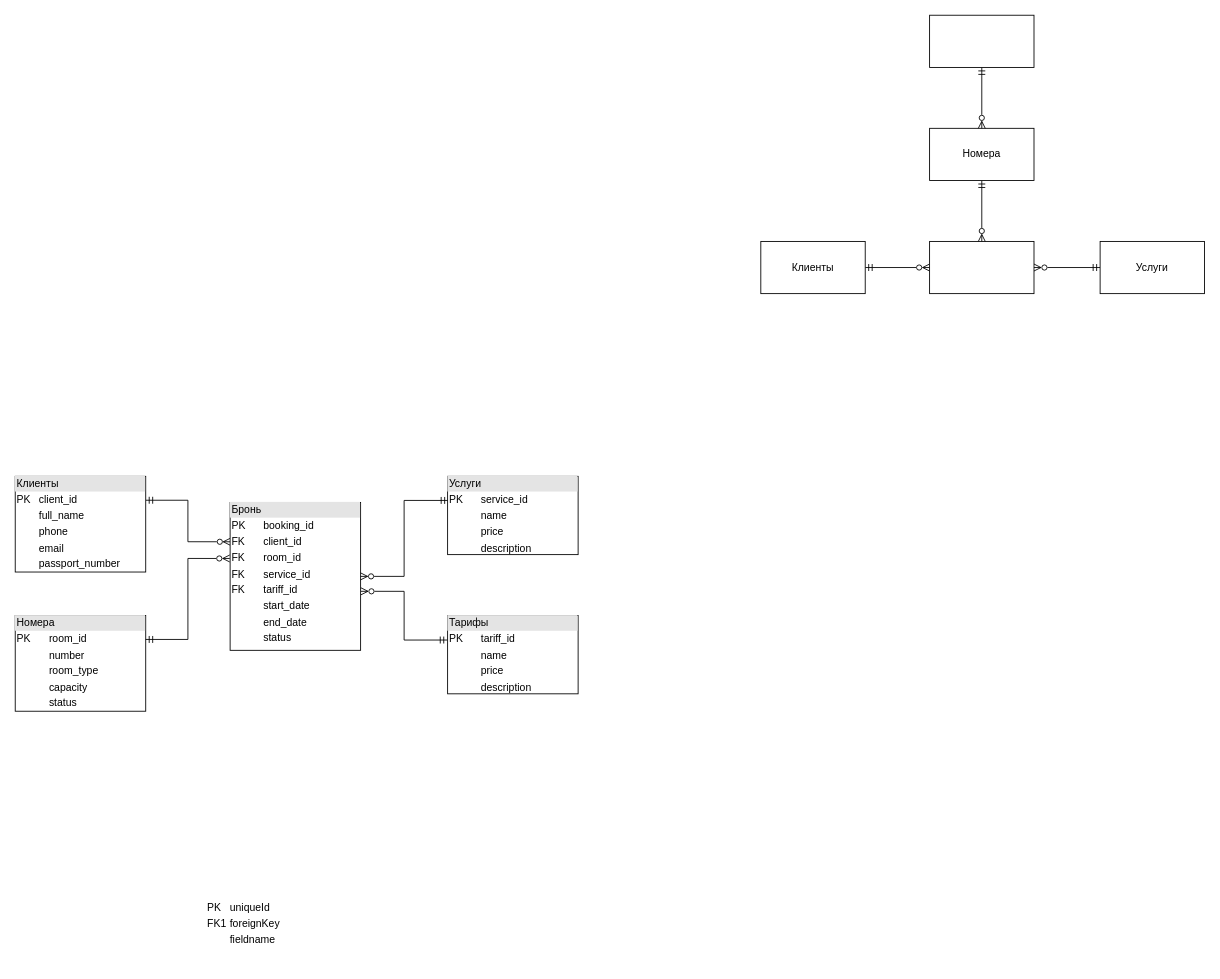
Some shapes in this 1220 by 979 pixel diagram are drawn without their labels. The box of each missing label's shape, as (x1, y1, x2, y2) in pixels:
Бронь: (929, 241, 1034, 294)
Тарифы: (929, 14, 1034, 67)
